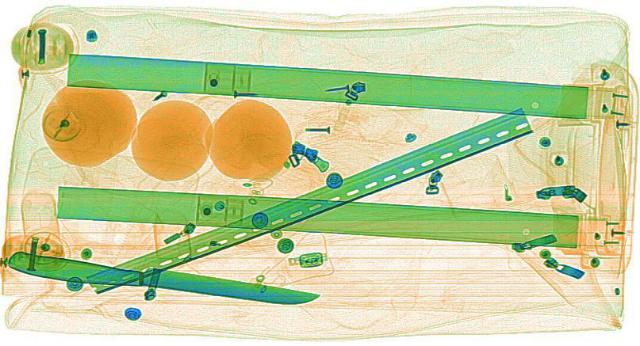Knife: (1, 247, 321, 310)
